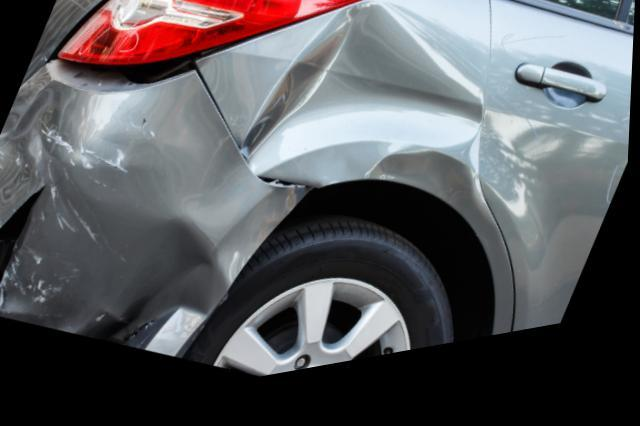crack: (0, 184, 47, 283)
dent: (243, 20, 488, 227), (78, 220, 236, 357), (0, 73, 78, 228)
scratch: (0, 123, 159, 309)
